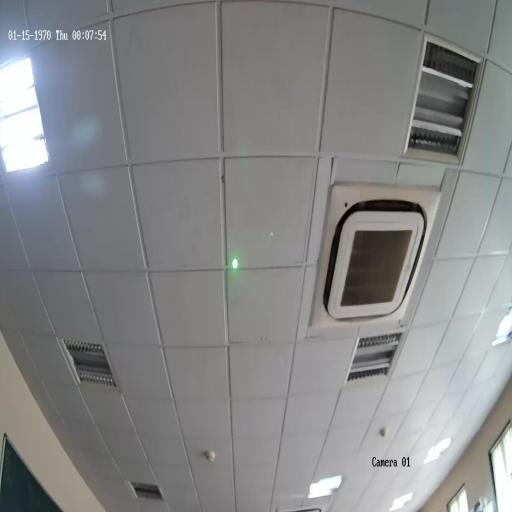laser: (232, 258, 238, 270)
